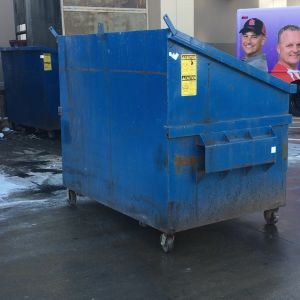Dumpster: (47, 13, 299, 256)
Person: (238, 16, 270, 72), (273, 23, 300, 80)
